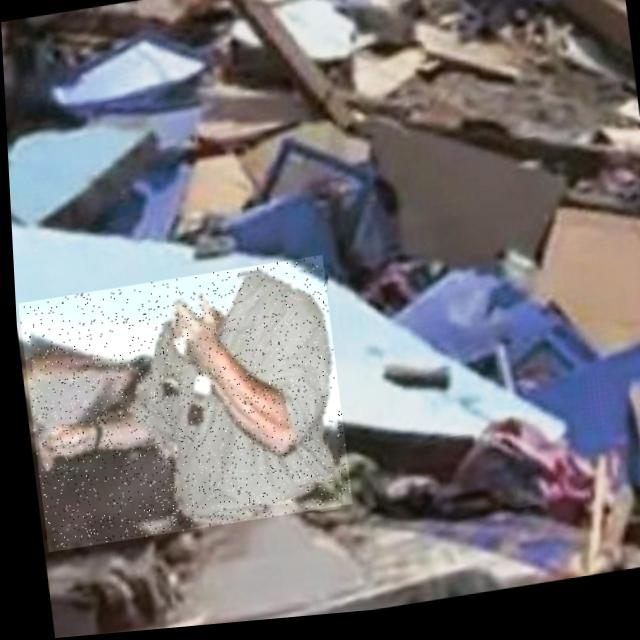Person in Rubble: (13, 259, 348, 553)
